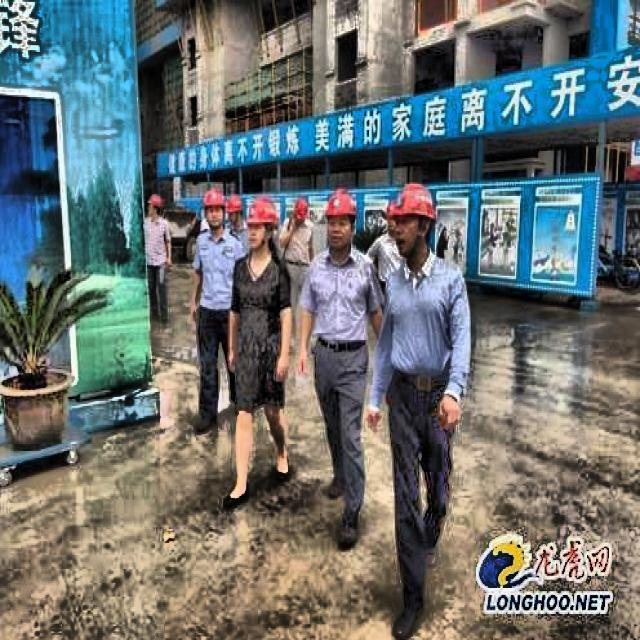helmet: (388, 182, 438, 257), (323, 187, 360, 250), (246, 192, 280, 252), (198, 189, 230, 234), (225, 185, 242, 232), (142, 187, 163, 222)
